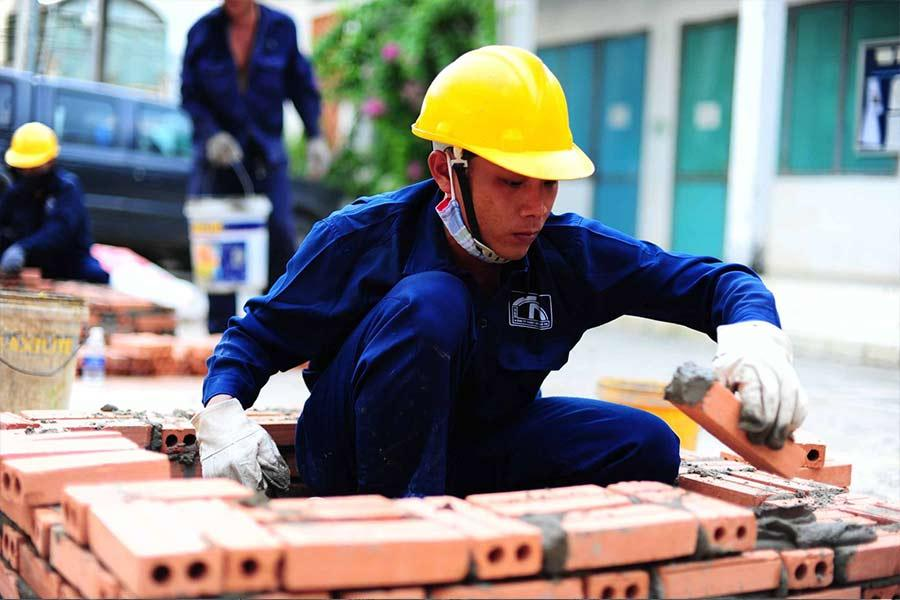Gloves: (711, 319, 808, 449), (190, 395, 291, 495)
Helmet: (410, 43, 595, 181), (4, 121, 59, 169)
Person: (190, 43, 808, 499), (178, 0, 332, 334), (0, 120, 109, 284)
no-vest: (330, 213, 583, 440)
